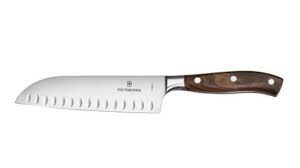knife: (14, 69, 285, 115)
